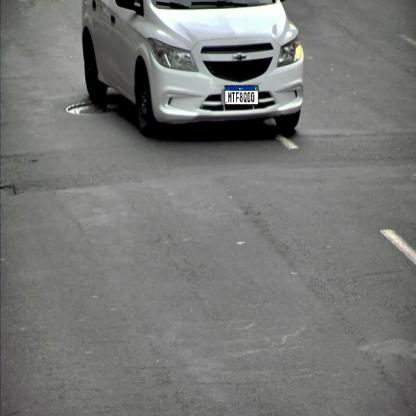PlacaM: (224, 86, 258, 106)
